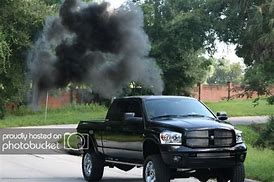smoke: (26, 1, 162, 93)
